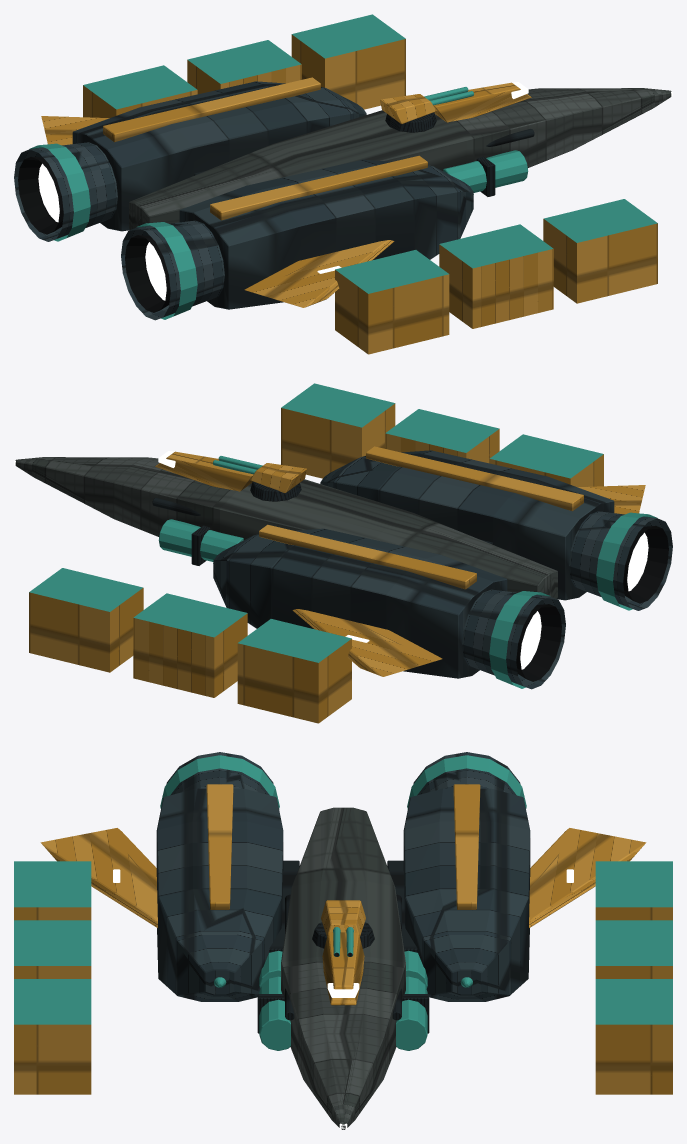
File: corvette.glb
The picture shows the model from 3 angles, top to bottom: view 1: azimuth 30°, elevation 25°; view 2: azimuth 150°, elevation 25°; view 3: azimuth 270°, elevation 25°; orthographic projection. The views are drawn at different scales.
Parts seen in each view (by area): view 1: corvette; view 2: corvette; view 3: corvette.
Part boxes in pixels (x1,y1,x2,y2): corvette: (14,14,672,354); corvette: (14,383,672,723); corvette: (14,752,672,1129).
Bounding box in the file's own units: 20 × 3.49 × 17.07.
Materials: 1 (1 with a texture image).
